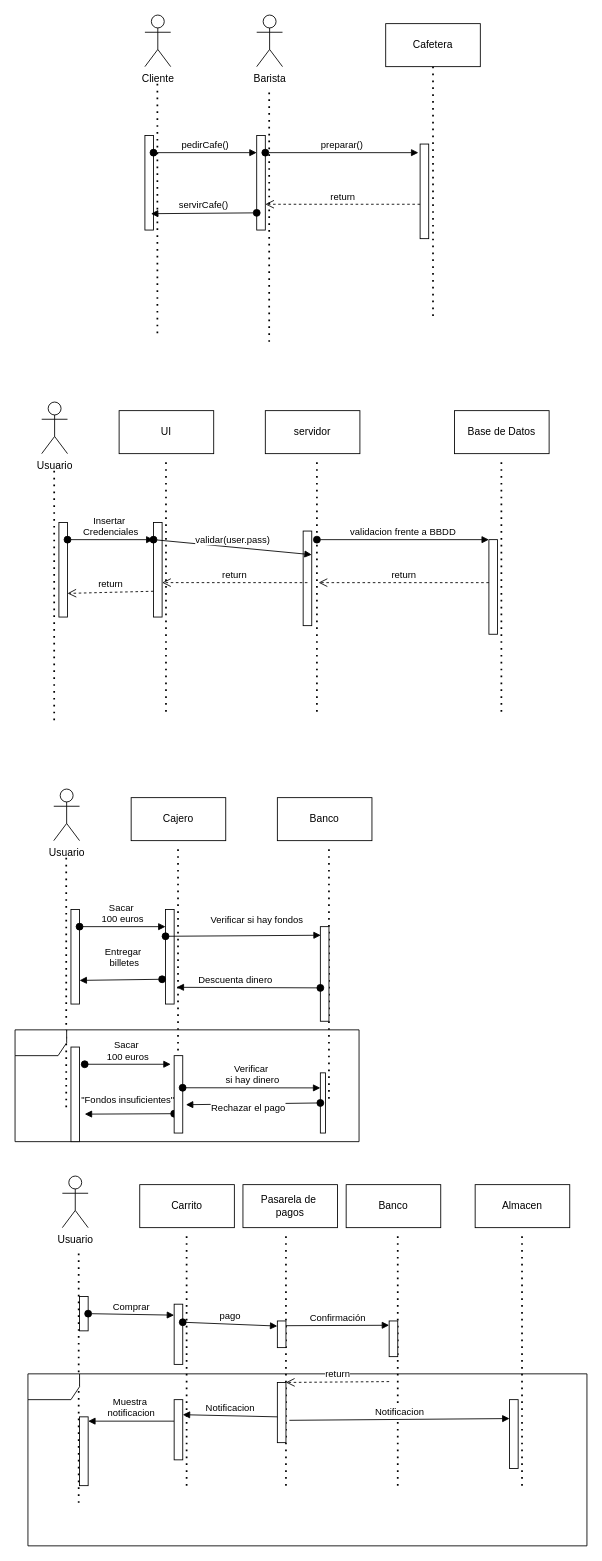
Image size: 602x1561. Some labels were removed from this diagram. Here are the shapes that lost their labels. From the top down, the box of each, then its label:
(14, 1029, 359, 1142): Caso B
(27, 1373, 587, 1546): Paralelo
